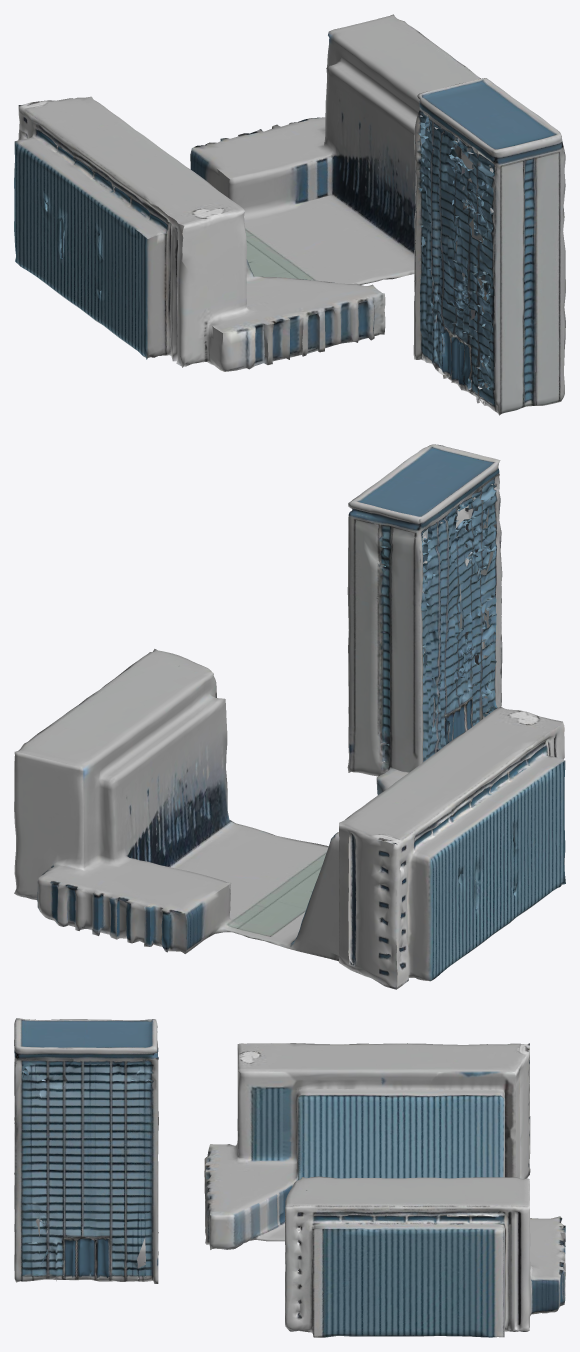
The model's file is alpujarra.fbx.
The picture shows the model from 3 angles, top to bottom: view 1: azimuth 30°, elevation 25°; view 2: azimuth 150°, elevation 25°; view 3: azimuth 270°, elevation 25°; orthographic projection. The views are drawn at different scales.
Parts seen in each view (by area): view 1: tripo_node_74979425; view 2: tripo_node_74979425; view 3: tripo_node_74979425.
Part boxes in pixels (x1=…): tripo_node_74979425: x1=14, y1=14, x2=565, y2=415; tripo_node_74979425: x1=14, y1=444, x2=565, y2=989; tripo_node_74979425: x1=14, y1=1018, x2=565, y2=1337.
Size of the model in its own units: 0.7562 by 0.4733 by 1.
1 material, 1 textured.
